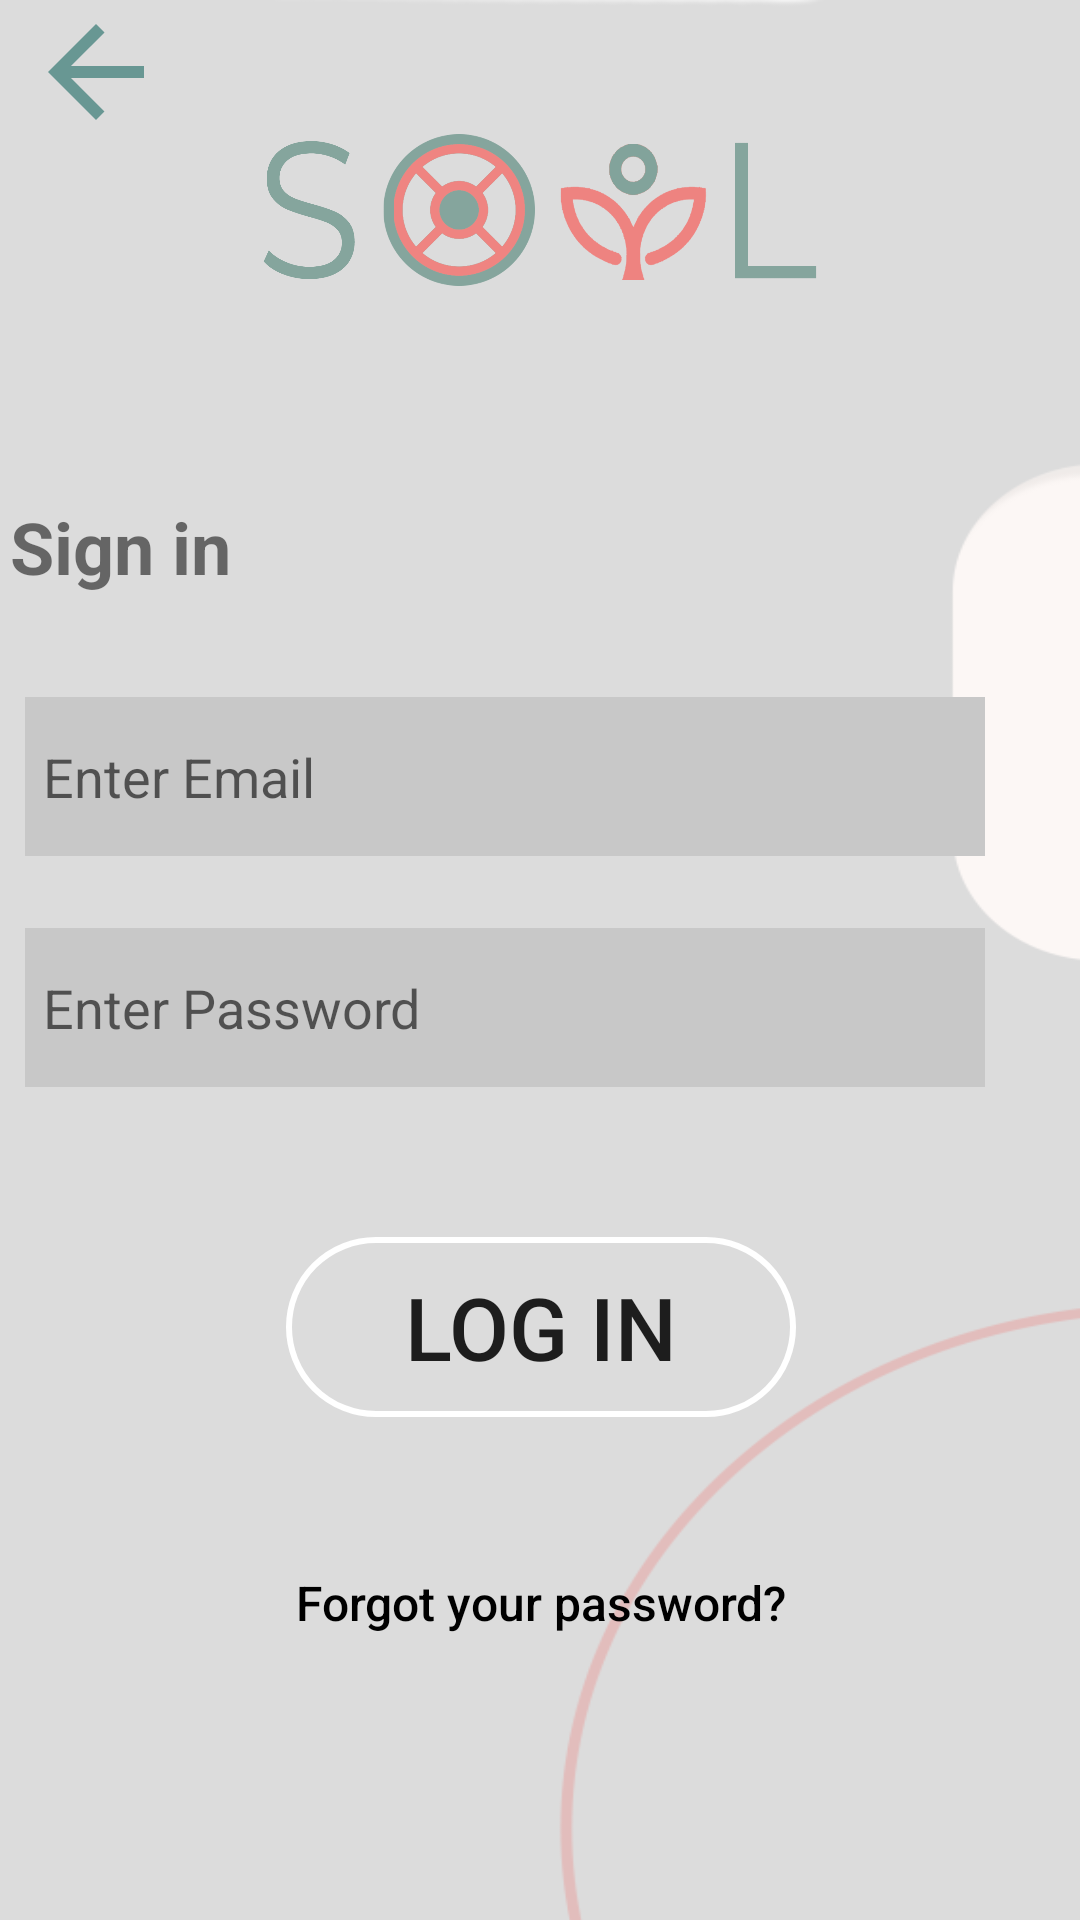

Icons on this 1080*1920 Android screen, each with its box as [x1=x1, y1=y1, x2=x2, y2=y2]:
back: [x1=48, y1=24, x2=144, y2=120]
